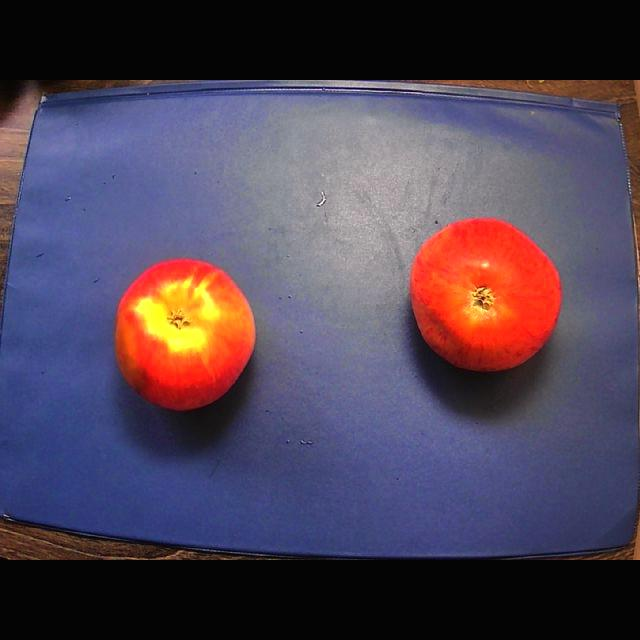manzana: (410, 218, 561, 371), (115, 259, 256, 410)
